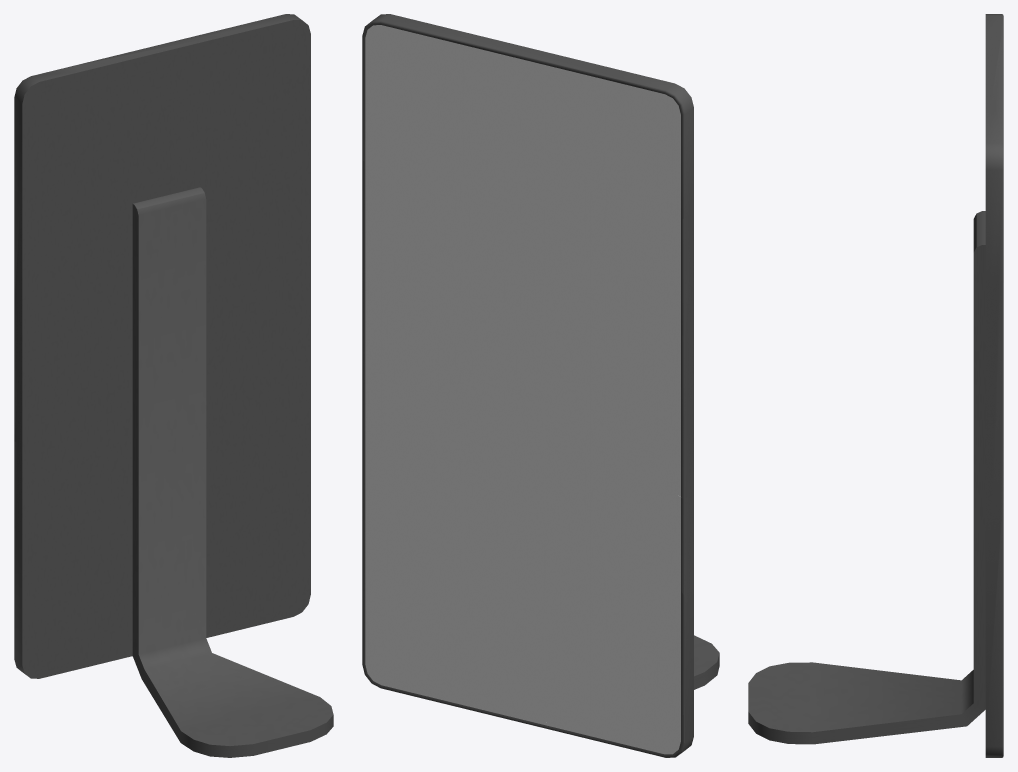
File: Mirror_Broken.fbx
The picture shows the model from 3 angles, left to right: view 1: azimuth 30°, elevation 25°; view 2: azimuth 150°, elevation 25°; view 3: azimuth 270°, elevation 25°; orthographic projection. The views are drawn at different scales.
Parts seen in each view (by area): view 1: Mirror_Foot, Mirror_Eclat_45, Mirror_Eclat_00, Mirror_Eclat_01, Mirror_Eclat_03, Mirror_Eclat_02, Mirror_Eclat_47, Mirror_Eclat_43, Mirror_Eclat_05, Mirror_Eclat_11, Mirror_Eclat_21, Mirror_Eclat_42 (+9 smaller); view 2: Mirror_Eclat_45, Mirror_Eclat_01, Mirror_Eclat_00, Mirror_Eclat_47, Mirror_Eclat_03, Mirror_Eclat_02, Mirror_Eclat_43, Mirror_Eclat_05, Mirror_Eclat_11, Mirror_Eclat_25, Mirror_Eclat_44, Mirror_Eclat_21 (+13 smaller); view 3: Mirror_Foot, Mirror_Eclat_03, Mirror_Eclat_45, Mirror_Eclat_00, Mirror_Eclat_01, Mirror_Eclat_02.
Part boxes in pixels (<box>): Mirror_Foot: <box>132,187,333,757</box>; Mirror_Eclat_45: <box>206,368,310,637</box>; Mirror_Eclat_00: <box>185,14,310,225</box>; Mirror_Eclat_01: <box>75,31,222,234</box>; Mirror_Eclat_03: <box>207,144,310,375</box>; Mirror_Eclat_02: <box>14,65,120,239</box>; Mirror_Eclat_47: <box>21,510,132,678</box>; Mirror_Eclat_43: <box>14,436,120,676</box>; Mirror_Eclat_05: <box>14,190,119,316</box>; Mirror_Eclat_11: <box>14,295,132,374</box>; Mirror_Eclat_21: <box>14,352,103,444</box>; Mirror_Eclat_42: <box>14,416,84,532</box>; Mirror_Eclat_45: <box>362,410,547,728</box>; Mirror_Eclat_01: <box>458,33,624,299</box>; Mirror_Eclat_00: <box>362,14,502,250</box>; Mirror_Eclat_47: <box>527,569,685,757</box>; Mirror_Eclat_03: <box>362,160,477,418</box>; Mirror_Eclat_02: <box>575,71,693,267</box>; Mirror_Eclat_43: <box>579,487,693,751</box>; Mirror_Eclat_05: <box>575,211,693,351</box>; Mirror_Eclat_11: <box>524,330,693,415</box>; Mirror_Eclat_25: <box>406,375,530,497</box>; Mirror_Eclat_44: <box>526,456,614,572</box>; Mirror_Eclat_21: <box>593,391,693,498</box>; Mirror_Foot: <box>748,211,985,744</box>; Mirror_Eclat_03: <box>985,282,1003,520</box>; Mirror_Eclat_45: <box>985,519,1003,757</box>; Mirror_Eclat_00: <box>985,107,1003,283</box>; Mirror_Eclat_01: <box>985,37,1003,109</box>; Mirror_Eclat_02: <box>985,14,1003,38</box>.
Bounding box in the file's own units: 1.02 × 2.08 × 0.7635.
Materials: 1 (1 with a texture image).
